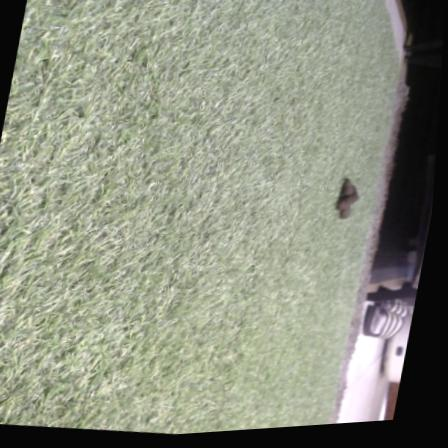dog-poop: (333, 174, 366, 229)
